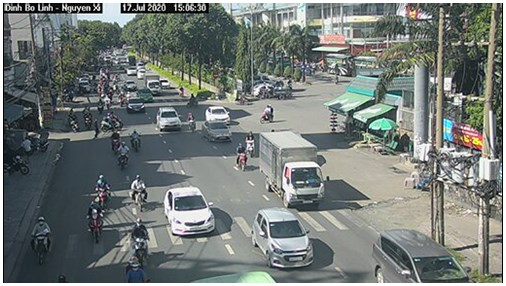xe_hoi: (370, 229, 475, 283), (250, 207, 312, 269), (164, 186, 217, 238), (202, 121, 235, 143), (156, 107, 183, 133), (204, 106, 233, 123), (126, 97, 146, 115), (136, 87, 156, 104)
xe_may: (29, 214, 56, 264), (83, 196, 110, 240), (126, 214, 150, 258), (126, 170, 151, 212), (119, 257, 152, 280), (93, 175, 113, 208), (100, 111, 123, 132), (128, 127, 146, 153), (116, 140, 131, 169), (234, 139, 247, 171), (258, 102, 276, 125), (186, 109, 200, 137), (244, 129, 256, 158), (82, 102, 93, 131), (111, 131, 120, 154)
xe_tai: (257, 128, 330, 210)
